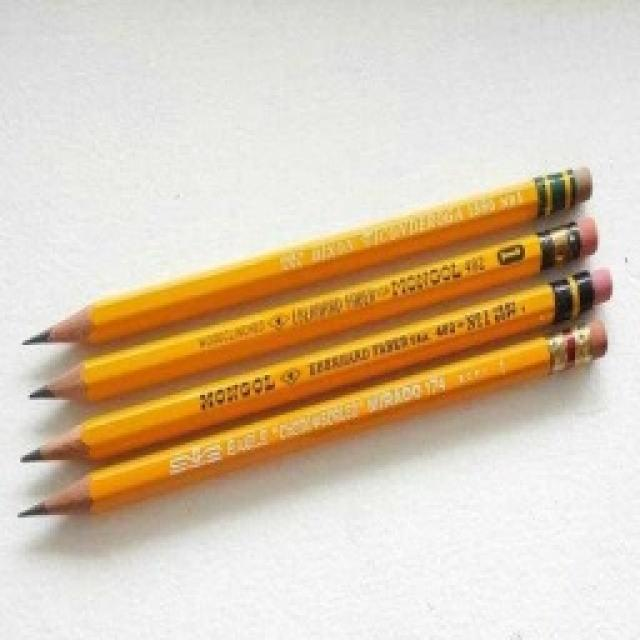pencil: (12, 157, 618, 525)
